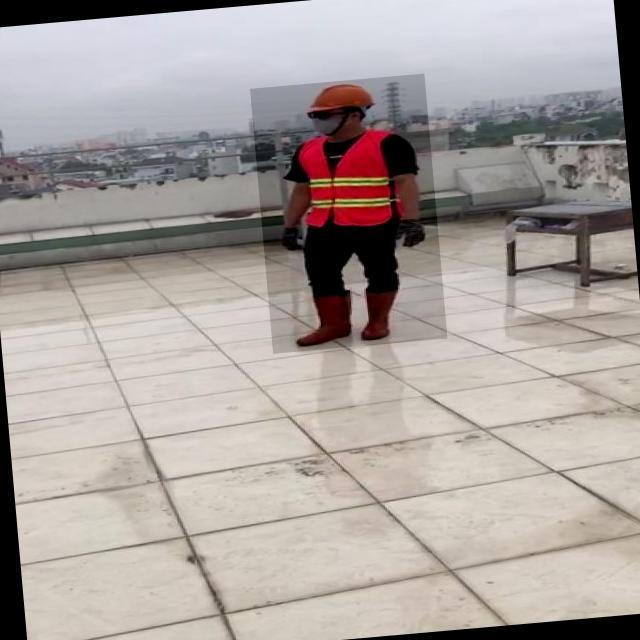Gloves: (392, 219, 426, 248), (280, 224, 305, 253)
Helmet: (308, 79, 375, 115)
Human: (250, 73, 448, 353)
Safety Boot: (293, 292, 354, 345), (355, 288, 402, 341)
Safety Vest: (295, 128, 399, 228)
